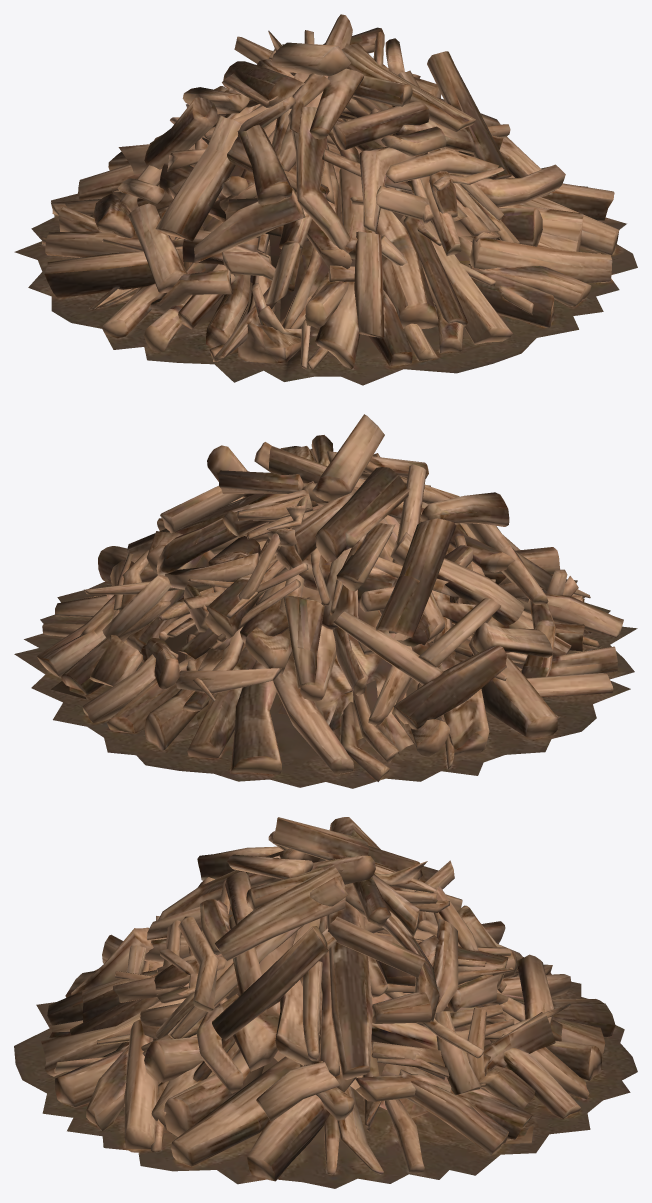
File: firewood_heap_nj.glb
3 renders of one model, top to bottom at view 1: azimuth 30°, elevation 25°; view 2: azimuth 150°, elevation 25°; view 3: azimuth 270°, elevation 25°, orthographic.
Bounding box in the file's own units: 0.9443 × 0.4033 × 0.9487.
Materials: 1 (1 with a texture image).
